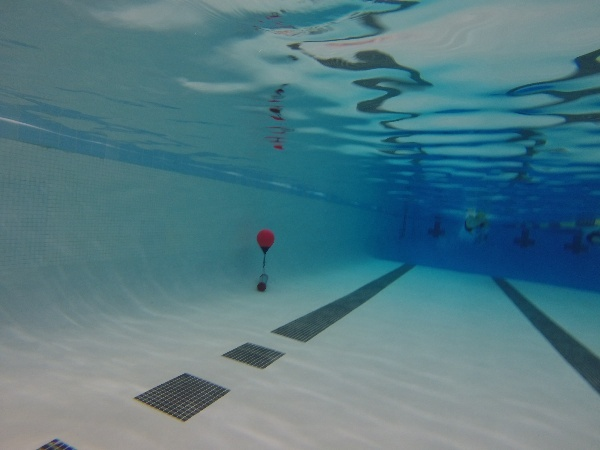buoy_red: (255, 226, 276, 254)
